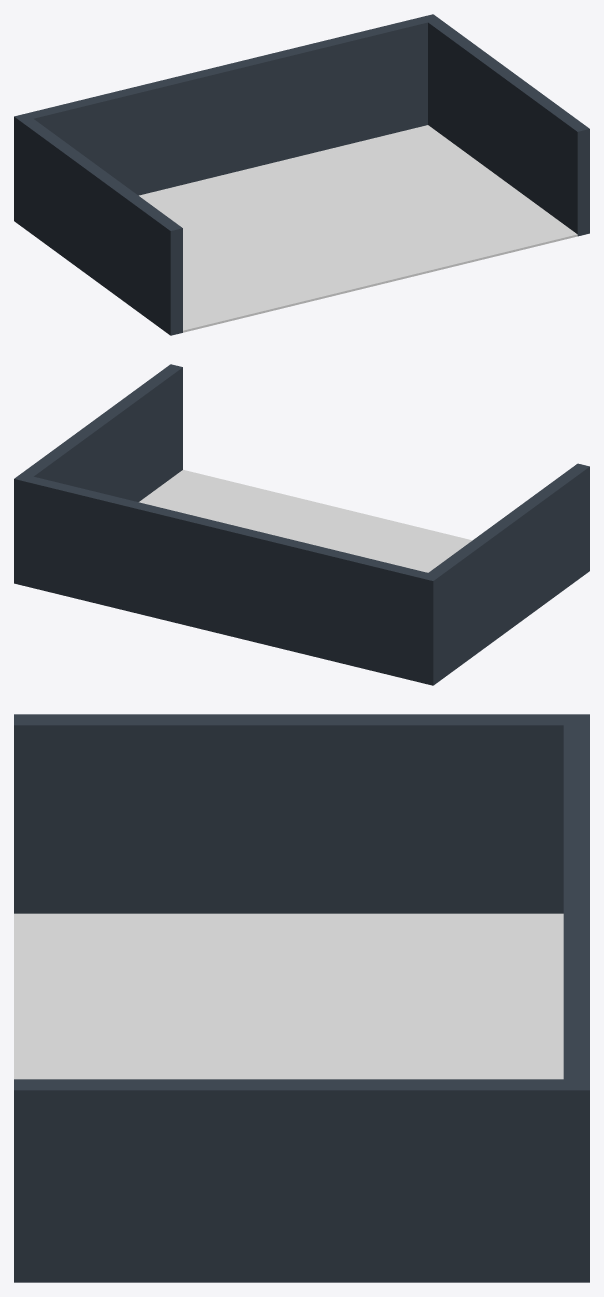
Rendered from room_base_potions.fbx.
The picture shows the model from 3 angles, top to bottom: view 1: azimuth 30°, elevation 25°; view 2: azimuth 150°, elevation 25°; view 3: azimuth 270°, elevation 25°; orthographic projection. The views are drawn at different scales.
Visible parts, largest first — view 1: Plane.019; view 2: Plane.019; view 3: Plane.019.
Boxes of the visible parts, x1=… form: Plane.019: x1=14, y1=14, x2=589, y2=335; Plane.019: x1=14, y1=364, x2=589, y2=685; Plane.019: x1=14, y1=714, x2=589, y2=1282.
Size of the model in its own units: 1700 by 405 by 1100.
